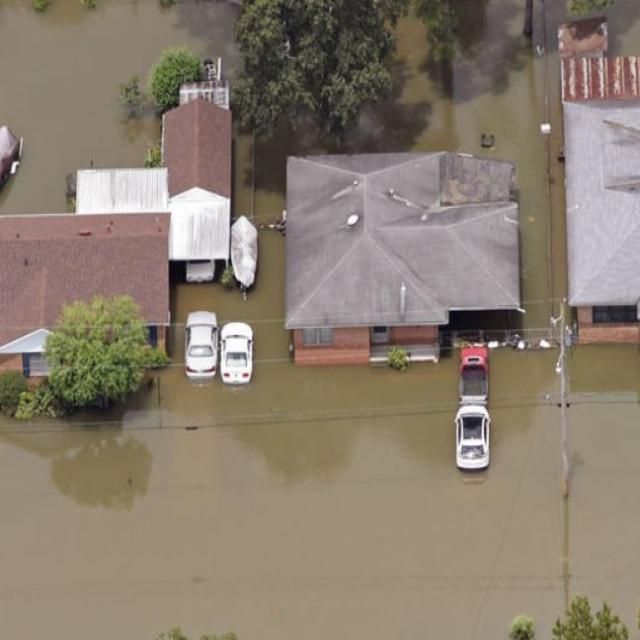flooded_areas: (3, 28, 639, 412)
